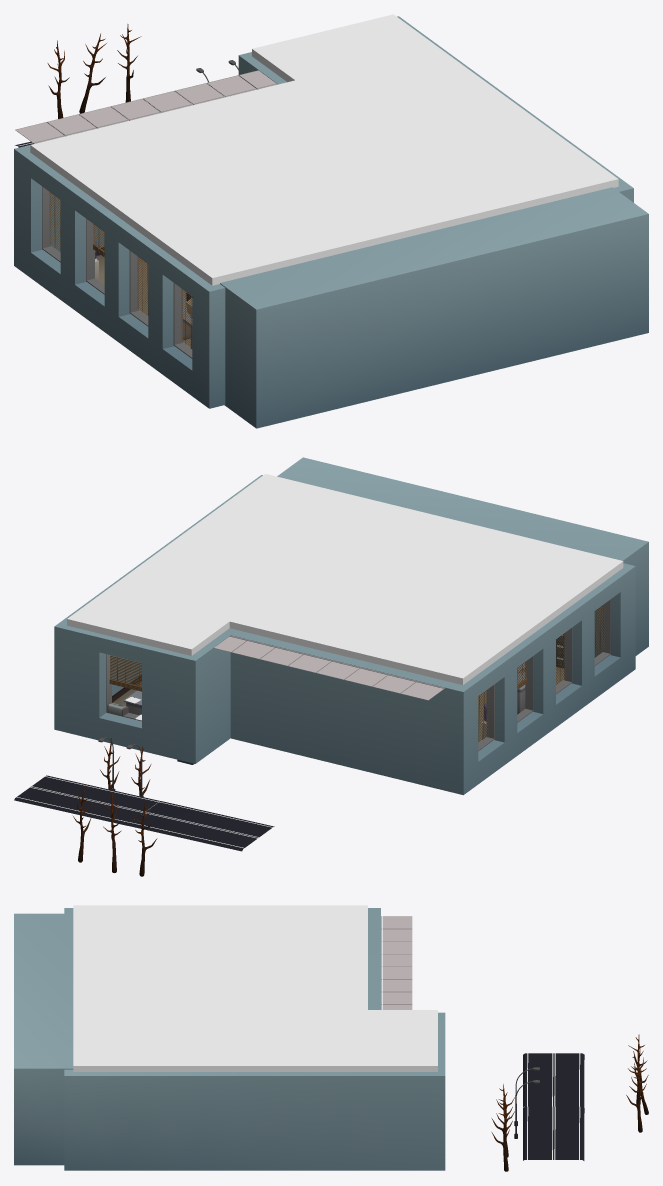
The model's file is MainArea.fbx.
The picture shows the model from 3 angles, top to bottom: view 1: azimuth 30°, elevation 25°; view 2: azimuth 150°, elevation 25°; view 3: azimuth 270°, elevation 25°; orthographic projection. The views are drawn at different scales.
Parts seen in each view (by area): view 1: RoofUpperLayer, Walls, Walls.001, Roof, Blinds, Floor; view 2: RoofUpperLayer, Walls.001, Walls, Roof, Road.173, Road.001, Blinds, Blinds_Piece; view 3: RoofUpperLayer, Walls.001, Walls, Road.001, Road.173, Roof.
Part boxes in pixels (x1,y1,x2,y2): RoofUpperLayer: [30, 14, 618, 285]; Walls: [42, 186, 648, 428]; Walls.001: [14, 16, 633, 408]; Roof: [15, 70, 277, 143]; Blinds: [49, 192, 192, 348]; Floor: [96, 255, 190, 347]; RoofUpperLayer: [67, 474, 623, 684]; Walls.001: [54, 475, 635, 795]; Walls: [106, 457, 648, 751]; Roof: [213, 635, 444, 700]; Road.173: [128, 801, 274, 851]; Road.001: [14, 775, 159, 825]; Blinds: [478, 604, 604, 741]; Blinds_Piece: [109, 655, 141, 691]; RoofUpperLayer: [73, 905, 437, 1071]; Walls.001: [64, 908, 445, 1170]; Walls: [14, 913, 73, 1165]; Road.001: [523, 1106, 584, 1160]; Road.173: [523, 1053, 584, 1107]; Roof: [381, 916, 412, 1009].
Bounding box in the file's own units: 2278 × 890 × 3642.
